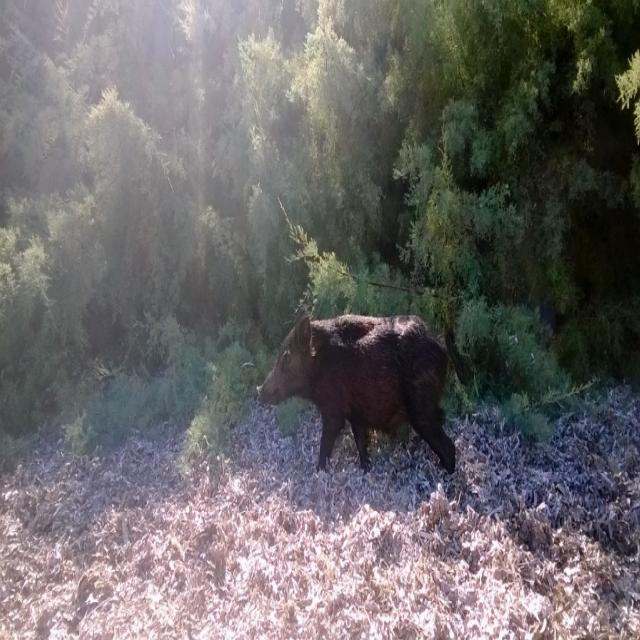Pig: (255, 304, 459, 480)
